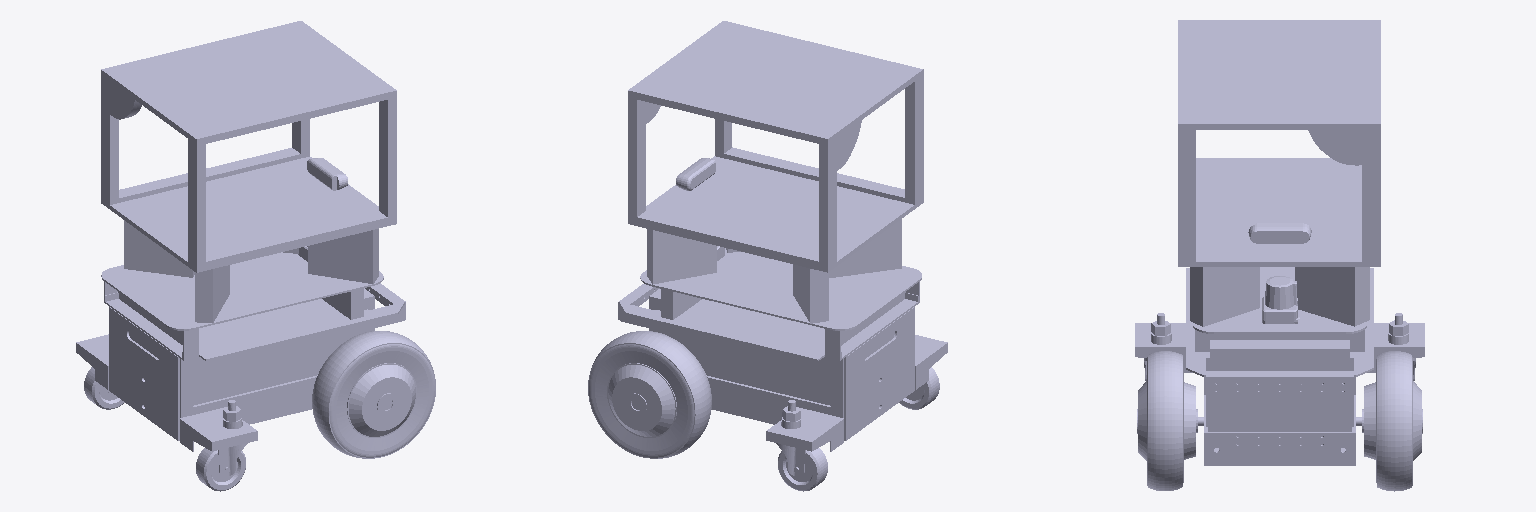
URDF robot description (krytn):
<?xml version="1.0" ?>
<robot name="krytn">
  <!--Generated by CROSS, a ROS Workbench for FreeCAD (https://github.com/galou/freecad.cross)-->
  <link name="base_footprint">
    <visual>
      <!--visual_base_footprint-->
      <origin rpy="0.0 -0.0 0.0" xyz="0.0 0.0 0.0"/>
      <geometry>
        <mesh filename="package://krytn_tray/meshes/krytn_tray_ex_visual_base_footprint_.dae"/>
      </geometry>
    </visual>
    <collision>
      <!--collision_base_footprint-->
      <origin rpy="0.0 -0.0 0.0" xyz="0.0 0.0 0.0"/>
      <geometry>
        <mesh filename="package://krytn_tray/meshes/krytn_tray_ex_collision_base_footprint_.dae"/>
      </geometry>
    </collision>
    <inertial>
      <mass value="0.0"/>
      <origin rpy="0.0 -0.0 0.0" xyz="0.0 0.0 0.0"/>
      <inertia ixx="0.0" ixy="0.0" ixz="0.0" iyy="0.0" iyz="0.0" izz="0.0"/>
    </inertial>
  </link>
  <link name="base_link">
    <visual>
      <!--visual_base_link/base_link_visual.-->
      <origin rpy="0.0 -0.0 0.0" xyz="-0.11 0.0 -0.029"/>
      <geometry>
        <mesh filename="package://krytn_tray/meshes/krytn_tray_ex_magni_body.dae.dae"/>
      </geometry>
    </visual>
    <collision>
      <!--collision_base_link/base_link_collision.-->
      <origin rpy="0.0 -0.0 0.0" xyz="-0.11 0.0 0.051"/>
      <geometry>
        <box size="0.398 0.268 0.16"/>
      </geometry>
    </collision>
    <collision>
      <!--collision_base_link/base_link_collision001.-->
      <origin rpy="0.0 -0.0 0.0" xyz="-0.136 0.0 0.148"/>
      <geometry>
        <box size="0.375 0.268 0.034"/>
      </geometry>
    </collision>
    <collision>
      <!--collision_base_link/base_link_collision002.-->
      <origin rpy="0.0 -0.0 0.0" xyz="-0.279 0.169 0.006"/>
      <geometry>
        <box size="0.1 0.07 0.07"/>
      </geometry>
    </collision>
    <collision>
      <!--collision_base_link/base_link_collision003.-->
      <origin rpy="0.0 -0.0 0.0" xyz="-0.279 -0.169 0.006"/>
      <geometry>
        <box size="0.1 0.07 0.07"/>
      </geometry>
    </collision>
    <inertial>
      <mass value="10.0"/>
      <origin rpy="0.0 -0.0 0.0" xyz="-0.15 0.0 0.03"/>
      <inertia ixx="0.059450809553" ixy="0.0" ixz="0.0" iyy="0.150753273032" iyz="0.0" izz="0.17270409758500002"/>
    </inertial>
  </link>
  <link name="left_wheel">
    <visual>
      <!--visual_left_wheel/left_wheel_visual.-->
      <origin rpy="0.0 -1.5707963267948966 0.0" xyz="-1.57652e-17 0.0 -0.071"/>
      <geometry>
        <mesh filename="package://krytn_tray/meshes/krytn_tray_ex_front_wheel.dae.dae"/>
      </geometry>
    </visual>
    <collision>
      <!--collision_left_wheel/left_wheel_collision.-->
      <origin rpy="0.0 -0.0 0.0" xyz="7.32747e-18 0.0 0.033"/>
      <geometry>
        <cylinder length="0.01" radius="0.1"/>
      </geometry>
    </collision>
    <inertial>
      <mass value="1.34"/>
      <origin rpy="-0.0 1.5707963267948966 0.0" xyz="0.0 0.0 0.0"/>
      <inertia ixx="0.003629165215000001" ixy="0.0" ixz="0.0" iyy="0.003629165215000001" iyz="0.0" izz="0.006700000000000001"/>
    </inertial>
  </link>
  <link name="right_wheel">
    <visual>
      <!--visual_right_wheel/right_wheel_visual.-->
      <origin rpy="-0.0 1.5707963267948961 0.0" xyz="1.57652e-17 0.0 0.071"/>
      <geometry>
        <mesh filename="package://krytn_tray/meshes/krytn_tray_ex_front_wheel.dae.dae"/>
      </geometry>
    </visual>
    <collision>
      <!--collision_right_wheel/right_wheel_collision.-->
      <origin rpy="0.0 -0.0 0.0" xyz="-7.32747e-18 0.0 -0.033"/>
      <geometry>
        <cylinder length="0.01" radius="0.1"/>
      </geometry>
    </collision>
    <inertial>
      <mass value="1.34"/>
      <origin rpy="-0.0 1.5707963267948966 0.0" xyz="0.0 0.0 0.0"/>
      <inertia ixx="0.003629165215000001" ixy="0.0" ixz="0.0" iyy="0.003629165215000001" iyz="0.0" izz="0.006700000000000001"/>
    </inertial>
  </link>
  <link name="left_caster_wheel">
    <visual>
      <!--visual_left_caster_wheel/left_caster_wheel_visual.-->
      <origin rpy="0.0 -0.0 3.141592653589793" xyz="-0.25 0.169 0.0"/>
      <geometry>
        <mesh filename="package://krytn_tray/meshes/krytn_tray_ex_caster_wheel.dae.dae"/>
      </geometry>
    </visual>
    <collision>
      <!--collision_left_caster_wheel/left_caster_wheel_collision.-->
      <geometry>
        <sphere radius="0.04"/>
      </geometry>
    </collision>
    <inertial>
      <mass value="0.0"/>
      <origin rpy="0.0 -0.0 0.0" xyz="0.0 0.0 0.0"/>
      <inertia ixx="0.0" ixy="0.0" ixz="0.0" iyy="0.0" iyz="0.0" izz="0.0"/>
    </inertial>
  </link>
  <link name="right_caster_wheel">
    <visual>
      <!--visual_right_caster_wheel/right_caster_wheel_visual.-->
      <origin rpy="0.0 -0.0 3.141592653589793" xyz="-0.25 -0.169 0.0"/>
      <geometry>
        <mesh filename="package://krytn_tray/meshes/krytn_tray_ex_caster_wheel.dae.dae"/>
      </geometry>
    </visual>
    <collision>
      <!--collision_right_caster_wheel/right_caster_wheel_collision.-->
      <geometry>
        <sphere radius="0.04"/>
      </geometry>
    </collision>
    <inertial>
      <mass value="0.0"/>
      <origin rpy="0.0 -0.0 0.0" xyz="0.0 0.0 0.0"/>
      <inertia ixx="0.0" ixy="0.0" ixz="0.0" iyy="0.0" iyz="0.0" izz="0.0"/>
    </inertial>
  </link>
  <link name="realsense_link">
    <visual>
      <!--visual_realsense_link/realsense_link_visual.-->
      <origin rpy="0.0 -0.0 1.5707963267948966" xyz="0.0 0.0 0.0"/>
      <geometry>
        <mesh filename="package://krytn_tray/meshes/krytn_tray_ex_realsense.dae.dae"/>
      </geometry>
    </visual>
    <collision>
      <!--collision_realsense_link/realsense_link_collision.-->
      <origin rpy="0.0 -0.0 1.5707963267948966" xyz="0.0 0.0 0.0"/>
      <geometry>
        <mesh filename="package://krytn_tray/meshes/krytn_tray_ex_realsense.dae.dae"/>
      </geometry>
    </collision>
    <inertial>
      <mass value="0.06"/>
      <origin rpy="0.0 -0.0 0.0" xyz="-0.15 0.0 0.03"/>
      <inertia ixx="5.04999798e-05" ixy="0.0" ixz="0.0" iyy="2.499999e-06" iyz="0.0" izz="5.19999792e-05"/>
    </inertial>
  </link>
  <link name="lidar_2d_link">
    <visual>
      <!--visual_lidar_2d_link/lidar_2d_link_visual.-->
      <origin rpy="0.0 -0.0 0.0" xyz="0.0 0.0 0.0"/>
      <geometry>
        <mesh filename="package://krytn_tray/meshes/krytn_tray_ex_lidar_2d_v1.dae.dae"/>
      </geometry>
    </visual>
    <collision>
      <!--collision_lidar_2d_link/lidar_2d_link_collision.-->
      <origin rpy="0.0 -0.0 0.0" xyz="0.0 0.0 0.0"/>
      <geometry>
        <box size="0.05001062 0.05001062 0.035003035"/>
      </geometry>
    </collision>
    <collision>
      <!--collision_lidar_2d_link/lidar_2d_link_collision001.-->
      <origin rpy="0.0 -0.0 0.0" xyz="0.0 0.0 0.0"/>
      <geometry>
        <cylinder length="0.035003035" radius="0.02"/>
      </geometry>
    </collision>
    <inertial>
      <mass value="0.13"/>
      <origin rpy="0.0 -0.0 0.0" xyz="-0.15 0.0 0.03"/>
      <inertia ixx="0.0027180822461000003" ixy="0.0" ixz="0.0" iyy="3.6833318600000004e-05" iyz="0.0" izz="0.0027354155725000003"/>
    </inertial>
  </link>
  <link name="krytn_tray">
    <visual>
      <!--Krytn_tray_part/Body.-->
      <origin rpy="0.0 -0.0 0.0" xyz="0.0 0.0 0.0"/>
      <geometry>
        <mesh filename="package://krytn_tray/meshes/krytn_tray_ex_Kytrn_tray.dae"/>
      </geometry>
    </visual>
    <collision>
      <!--Krytn_tray_part/Body.-->
      <origin rpy="0.0 -0.0 0.0" xyz="0.0 0.0 0.0"/>
      <geometry>
        <mesh filename="package://krytn_tray/meshes/krytn_tray_ex_Kytrn_tray.dae"/>
      </geometry>
    </collision>
    <inertial>
      <mass value="0.0"/>
      <origin rpy="0.0 -0.0 0.0" xyz="0.0 0.0 0.0"/>
      <inertia ixx="0.0" ixy="0.0" ixz="0.0" iyy="0.0" iyz="0.0" izz="0.0"/>
    </inertial>
  </link>
  <joint name="base_footprint_joint" type="fixed">
    <parent link="base_footprint"/>
    <child link="base_link"/>
    <origin rpy="0.0 -0.0 0.0" xyz="0.0 0.0 0.1"/>
  </joint>
  <joint name="left_wheel_joint" type="continuous">
    <parent link="base_link"/>
    <child link="left_wheel"/>
    <origin rpy="-1.5707963267948966 1.5707963267948963 0.0" xyz="0.0 0.163 0.0"/>
    <axis xyz="0 0 1"/>
  </joint>
  <joint name="right_wheel_joint" type="continuous">
    <parent link="base_link"/>
    <child link="right_wheel"/>
    <origin rpy="-1.5707963267948966 1.5707963267948963 0.0" xyz="0.0 -0.163 0.0"/>
    <axis xyz="0 0 1"/>
  </joint>
  <joint name="left_caster_wheel_joint" type="fixed">
    <parent link="base_link"/>
    <child link="left_caster_wheel"/>
    <origin rpy="0.0 -0.0 0.0" xyz="0.0 0.0 0.0"/>
  </joint>
  <joint name="right_caster_wheel_joint" type="fixed">
    <parent link="base_link"/>
    <child link="right_caster_wheel"/>
    <origin rpy="0.0 -0.0 0.0" xyz="0.0 0.0 0.0"/>
  </joint>
  <joint name="realsense_joint" type="fixed">
    <parent link="base_link"/>
    <child link="realsense_link"/>
    <origin rpy="0.0 -0.0 0.0" xyz="0.0 0.0 0.3"/>
  </joint>
  <joint name="lidar_2d_joint" type="fixed">
    <parent link="base_link"/>
    <child link="lidar_2d_link"/>
    <origin rpy="0.0 -0.0 0.0" xyz="0.0 0.0 0.15"/>
  </joint>
  <joint name="tray_joint" type="fixed">
    <parent link="base_link"/>
    <child link="krytn_tray"/>
    <origin rpy="0.0 -0.0 1.5707963267948966" xyz="-0.3 0.01 0.168"/>
  </joint>
</robot>

--- What the picture shows (computed from the rendered views, not written in the file) ---
3 views of the same robot in one strip: view 1: azimuth 30°, elevation 25°; view 2: azimuth 150°, elevation 25°; view 3: azimuth 270°, elevation 25° (orthographic).
Model krytn with 9 links and 8 joints (2 continuous, 6 fixed), rooted at base_footprint, posed all joints at 0.
Links seen in each view (by area): view 1: krytn_tray, base_link, right_wheel, right_caster_wheel, realsense_link, left_caster_wheel; view 2: krytn_tray, base_link, left_wheel, left_caster_wheel, realsense_link, right_caster_wheel; view 3: krytn_tray, base_link, left_wheel, right_wheel, lidar_2d_link, realsense_link, left_caster_wheel, right_caster_wheel.
Link boxes in pixels (left/top/right/bottom): krytn_tray: left=101, top=21, right=396, bottom=322; base_link: left=76, top=252, right=405, bottom=451; right_wheel: left=312, top=331, right=435, bottom=458; right_caster_wheel: left=196, top=400, right=247, bottom=491; realsense_link: left=307, top=158, right=347, bottom=190; left_caster_wheel: left=84, top=367, right=124, bottom=409; krytn_tray: left=628, top=21, right=923, bottom=323; base_link: left=618, top=248, right=947, bottom=451; left_wheel: left=588, top=331, right=711, bottom=458; left_caster_wheel: left=776, top=400, right=827, bottom=491; realsense_link: left=676, top=158, right=715, bottom=190; right_caster_wheel: left=899, top=367, right=939, bottom=409; krytn_tray: left=1178, top=20, right=1380, bottom=326; base_link: left=1135, top=267, right=1424, bottom=465; left_wheel: left=1356, top=351, right=1422, bottom=491; right_wheel: left=1137, top=351, right=1203, bottom=490; lidar_2d_link: left=1262, top=276, right=1299, bottom=323; realsense_link: left=1248, top=223, right=1311, bottom=243; left_caster_wheel: left=1388, top=313, right=1415, bottom=380; right_caster_wheel: left=1144, top=313, right=1171, bottom=380.
Size in the robot's own frame: 0.423 by 0.412 by 0.5891 metres.
Meshes: 7 distinct files referenced, 8 mesh visuals loaded (6 Collada DAE); not drawn: 1 (file found but could not be loaded).
